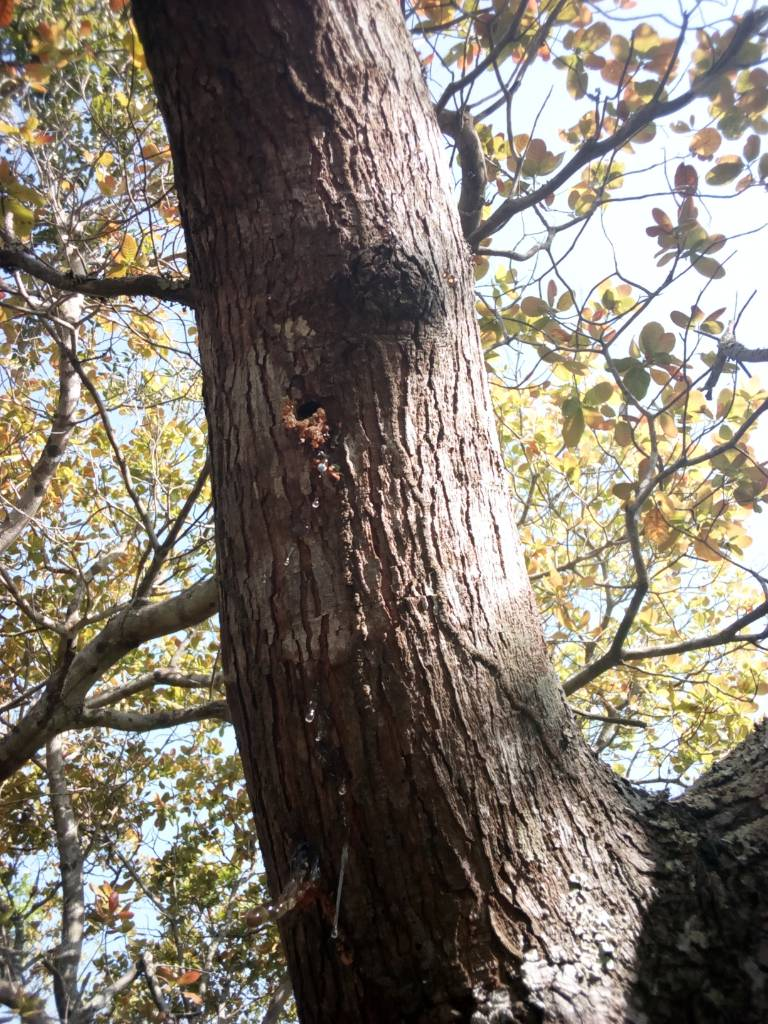Apate terebrans: (246, 347, 385, 502)
